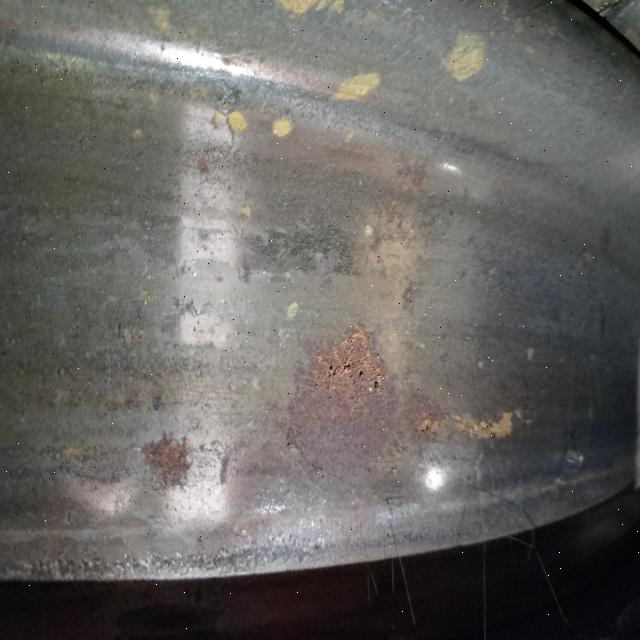Peeling: (398, 416, 539, 454)
